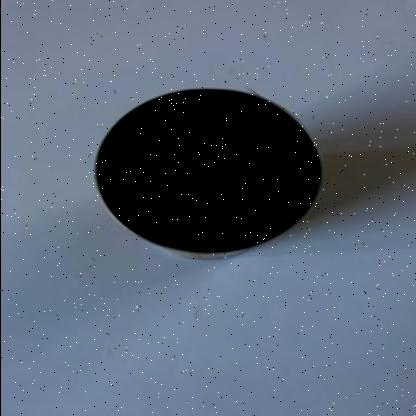Can: (93, 84, 321, 258)
